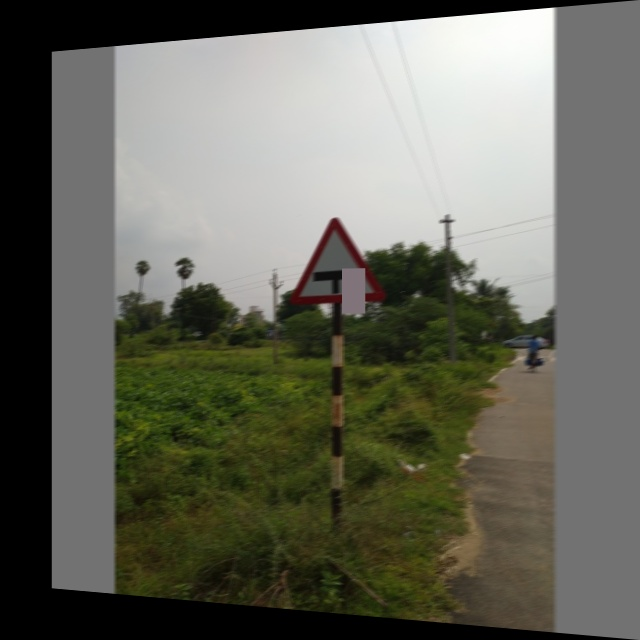T_Intersection: (278, 198, 387, 312)
